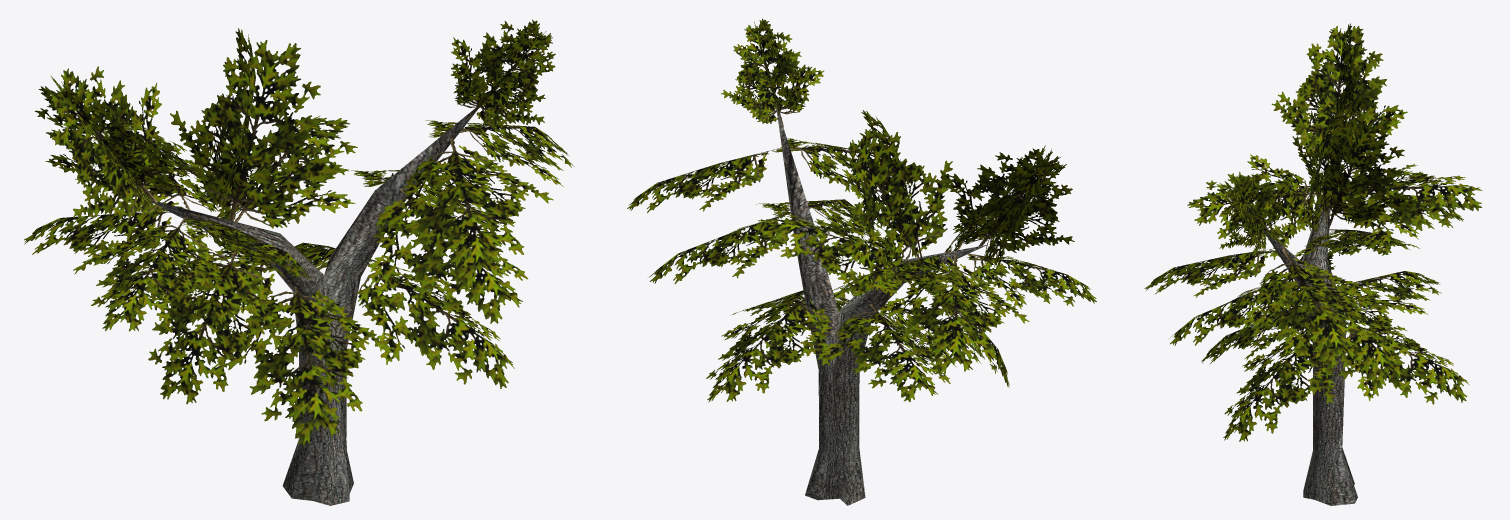
File: Sharp_Oak02.gltf
3 renders of one model, left to right at view 1: azimuth 30°, elevation 25°; view 2: azimuth 150°, elevation 25°; view 3: azimuth 270°, elevation 25°, orthographic. The views are drawn at different scales.
Parts seen in each view (by area): view 1: Cfol, Bfol, Afol, Dfol, Efol, Trunk; view 2: Cfol, Dfol, Trunk, Afol, Bfol, Efol; view 3: Cfol, Afol, Dfol, Bfol, Efol, Trunk.
Part boxes in pixels (x1=…): Cfol: x1=24, y1=120, x2=574, y2=331; Bfol: x1=145, y1=115, x2=527, y2=404; Afol: x1=101, y1=242, x2=514, y2=446; Dfol: x1=34, y1=19, x2=555, y2=220; Efol: x1=170, y1=28, x2=341, y2=221; Trunk: x1=151, y1=108, x2=478, y2=505; Cfol: x1=627, y1=138, x2=1096, y2=375; Dfol: x1=721, y1=18, x2=1074, y2=267; Trunk: x1=776, y1=105, x2=986, y2=505; Afol: x1=706, y1=290, x2=984, y2=402; Bfol: x1=649, y1=199, x2=1009, y2=387; Efol: x1=843, y1=110, x2=952, y2=269; Cfol: x1=1144, y1=154, x2=1482, y2=369; Afol: x1=1201, y1=271, x2=1469, y2=441; Dfol: x1=1219, y1=23, x2=1407, y2=255; Bfol: x1=1170, y1=229, x2=1419, y2=388; Efol: x1=1292, y1=110, x2=1418, y2=232; Trunk: x1=1261, y1=186, x2=1357, y2=505.
Bounding box in the file's own units: 25.99 × 21.85 × 18.97.
Materials: 2 (2 with a texture image).
